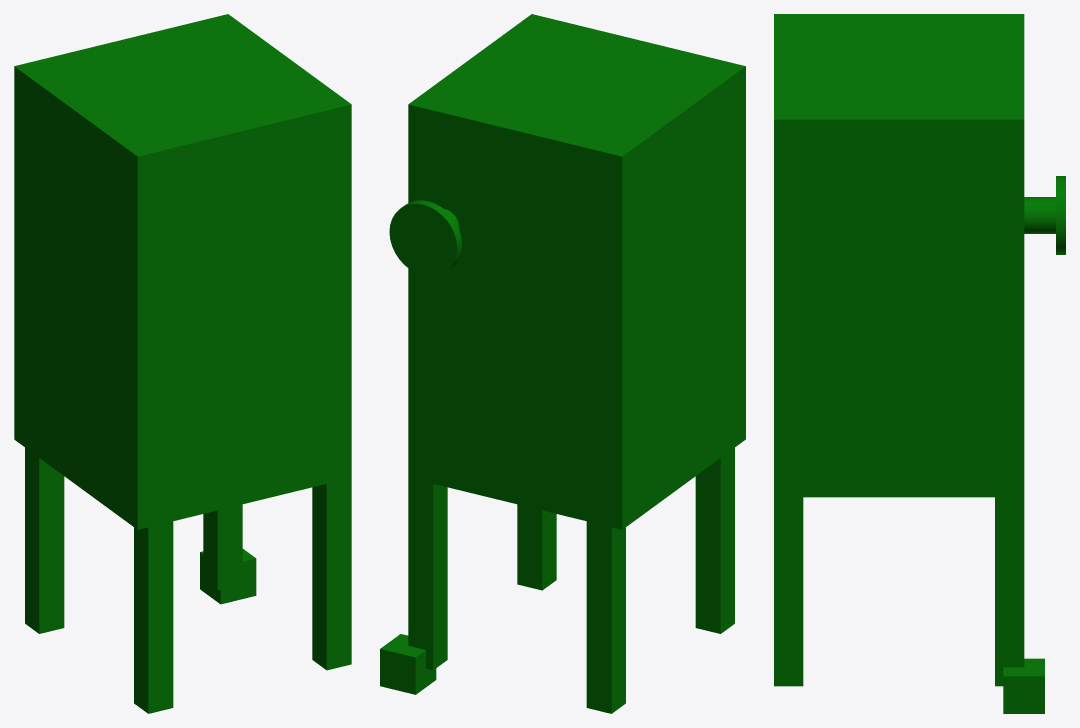
File: Image-1710907574955-2280310130816_71-SM52J.fbx
3 views of the same model, side by side, from view 1: azimuth 30°, elevation 25°; view 2: azimuth 150°, elevation 25°; view 3: azimuth 270°, elevation 25° (orthographic).
Parts seen in each view (by area): view 1: BOX 1 of SUBEQUIPMENT /71-SM52J-PRIM, BOX 4 of SUBEQUIPMENT /71-SM52J-PRIM, BOX 2 of SUBEQUIPMENT /71-SM52J-PRIM, BOX 5 of SUBEQUIPMENT /71-SM52J-PRIM, BOX 3 of SUBEQUIPMENT /71-SM52J-PRIM, BOX 1 of SUBEQUIPMENT /71-SM55J; view 2: BOX 1 of SUBEQUIPMENT /71-SM52J-PRIM, BOX 5 of SUBEQUIPMENT /71-SM52J-PRIM, BOX 3 of SUBEQUIPMENT /71-SM52J-PRIM, BOX 4 of SUBEQUIPMENT /71-SM52J-PRIM, /71-SM52J-N1, BOX 2 of SUBEQUIPMENT /71-SM52J-PRIM, BOX 1 of SUBEQUIPMENT /71-SM55J; view 3: BOX 1 of SUBEQUIPMENT /71-SM52J-PRIM, BOX 2 of SUBEQUIPMENT /71-SM52J-PRIM, BOX 3 of SUBEQUIPMENT /71-SM52J-PRIM, BOX 1 of SUBEQUIPMENT /71-SM55J, /71-SM52J-N1.
Boxes of the visible parts, box(x1,y1,x2,y2) form: BOX 1 of SUBEQUIPMENT /71-SM52J-PRIM: box(14, 14, 351, 529); BOX 4 of SUBEQUIPMENT /71-SM52J-PRIM: box(134, 521, 173, 713); BOX 2 of SUBEQUIPMENT /71-SM52J-PRIM: box(312, 478, 351, 670); BOX 5 of SUBEQUIPMENT /71-SM52J-PRIM: box(25, 447, 64, 633); BOX 3 of SUBEQUIPMENT /71-SM52J-PRIM: box(203, 504, 242, 590); BOX 1 of SUBEQUIPMENT /71-SM55J: box(200, 549, 256, 604); BOX 1 of SUBEQUIPMENT /71-SM52J-PRIM: box(408, 14, 745, 529); BOX 5 of SUBEQUIPMENT /71-SM52J-PRIM: box(586, 521, 625, 713); BOX 3 of SUBEQUIPMENT /71-SM52J-PRIM: box(408, 478, 447, 670); BOX 4 of SUBEQUIPMENT /71-SM52J-PRIM: box(695, 447, 734, 633); /71-SM52J-N1: box(389, 200, 461, 276); BOX 2 of SUBEQUIPMENT /71-SM52J-PRIM: box(517, 504, 556, 590); BOX 1 of SUBEQUIPMENT /71-SM55J: box(380, 634, 436, 694); BOX 1 of SUBEQUIPMENT /71-SM52J-PRIM: box(774, 14, 1024, 497); BOX 2 of SUBEQUIPMENT /71-SM52J-PRIM: box(774, 497, 803, 686); BOX 3 of SUBEQUIPMENT /71-SM52J-PRIM: box(995, 497, 1024, 686); BOX 1 of SUBEQUIPMENT /71-SM55J: box(1003, 658, 1044, 713); /71-SM52J-N1: box(1024, 176, 1065, 254).
Bounding box in the file's own units: 0.65 × 0.7 × 1.55.
